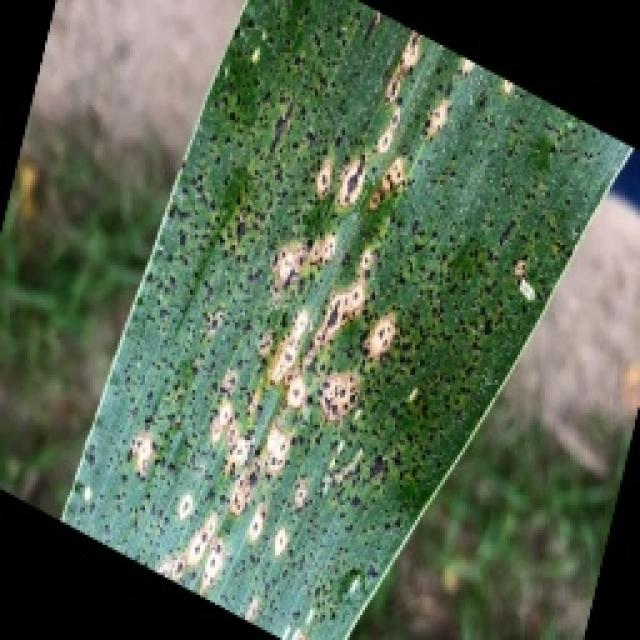Tar_Spot: (203, 77, 428, 514)
